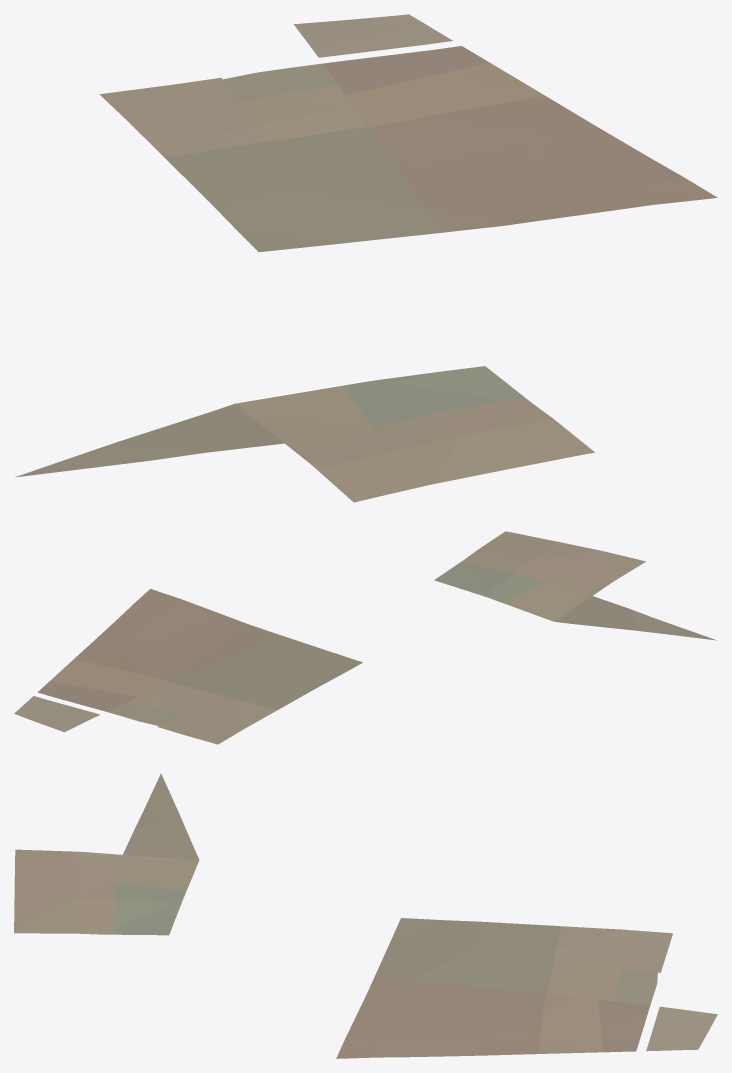
File: farm_4_12_soil.glb
The picture shows the model from 3 angles, top to bottom: view 1: azimuth 30°, elevation 25°; view 2: azimuth 150°, elevation 25°; view 3: azimuth 270°, elevation 25°; orthographic projection. The views are drawn at different scales.
Parts seen in each view (by area): view 1: geometry_0; view 2: geometry_0; view 3: geometry_0.
Boxes of the visible parts, x1=… form: geometry_0: x1=15, y1=14, x2=717, y2=502; geometry_0: x1=14, y1=531, x2=717, y2=744; geometry_0: x1=14, y1=773, x2=717, y2=1058.
Bounding box in the file's own units: 509 × 14.53 × 556.
